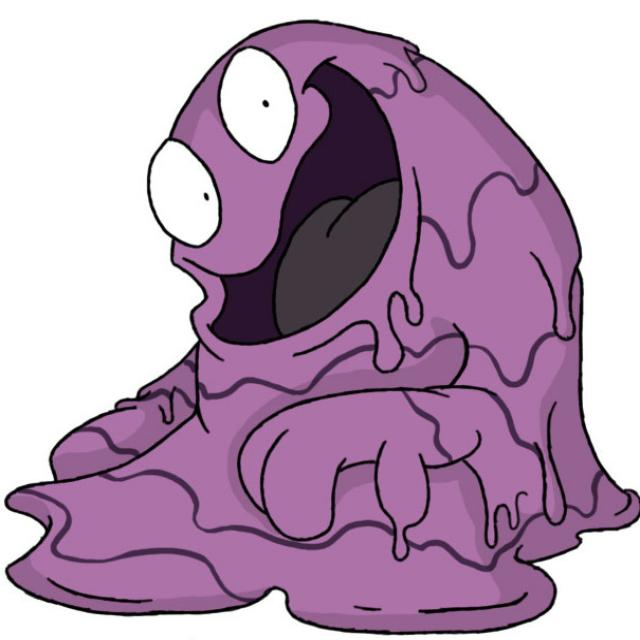Grimer: (151, 18, 582, 541)
